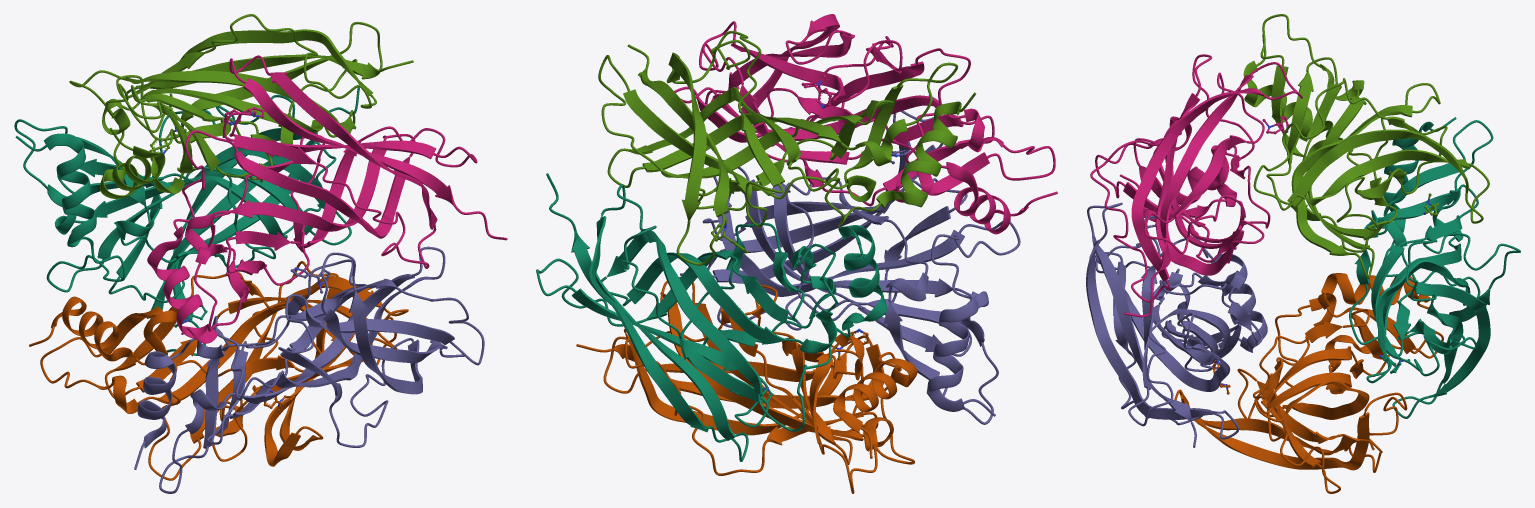
The picture shows the model from 3 angles, left to right: view 1: azimuth 30°, elevation 25°; view 2: azimuth 150°, elevation 25°; view 3: azimuth 270°, elevation 25°; orthographic projection. The views are drawn at different scales.
Size of the model in its own units: 62 by 72.45 by 73.5.
